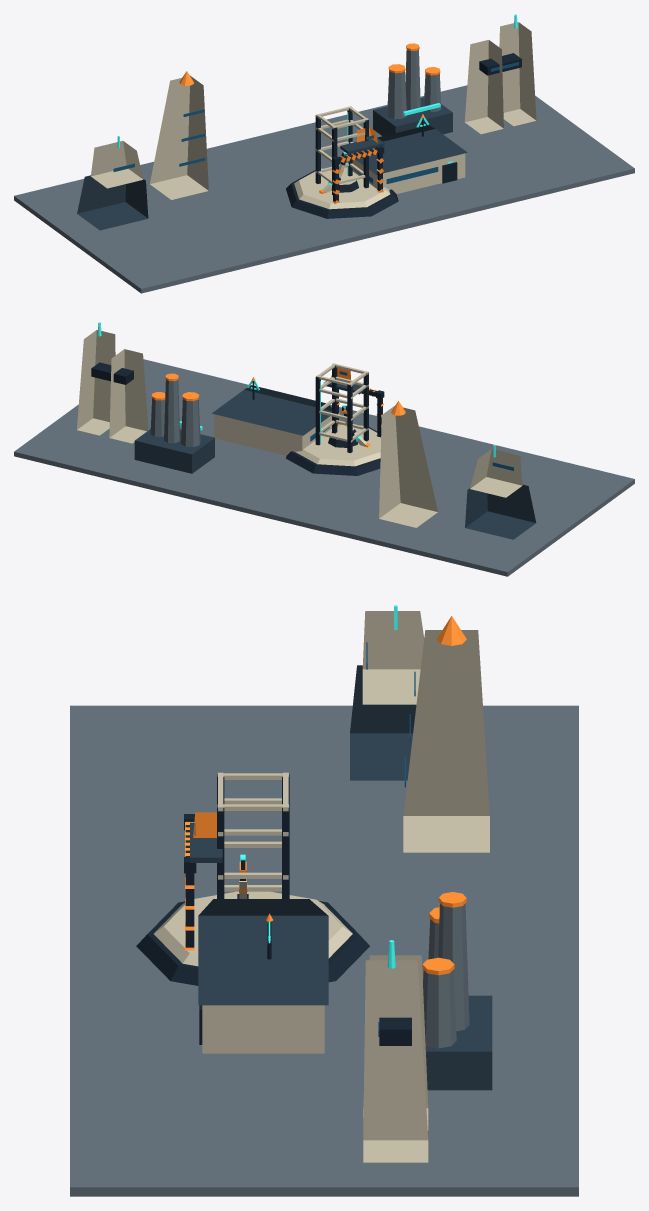
The model's file is earth-vertical-slice-v1-14IxkilN.glb.
The picture shows the model from 3 angles, top to bottom: view 1: azimuth 30°, elevation 25°; view 2: azimuth 150°, elevation 25°; view 3: azimuth 270°, elevation 25°; orthographic projection. The views are drawn at different scales.
Visible parts, largest first — view 1: EVS1_GroundDeck, EVS1_City04_Towers, EVS1_City02_Tower, EVS1_City01_Base, EVS1_ResearchBlock_Roof, EVS1_City03_Stacks, EVS1_LaunchPad_Upper, EVS1_City01_Upper, EVS1_ResearchBlock_Base, EVS1_City03_Base, EVS1_LaunchPad_Lower, EVS1_Shaft_RingBeams (+3 smaller); view 2: EVS1_GroundDeck, EVS1_City04_Towers, EVS1_City02_Tower, EVS1_ResearchBlock_Roof, EVS1_City01_Base, EVS1_ResearchBlock_Base, EVS1_City03_Stacks, EVS1_City03_Base, EVS1_LaunchPad_Upper, EVS1_City01_Upper, EVS1_Shaft_RingBeams, EVS1_Shaft_Pillars (+2 smaller); view 3: EVS1_GroundDeck, EVS1_City02_Tower, EVS1_ResearchBlock_Roof, EVS1_City04_Towers, EVS1_ResearchBlock_Base, EVS1_City01_Upper, EVS1_City03_Stacks, EVS1_City01_Base, EVS1_City03_Base, EVS1_Shaft_RingBeams, EVS1_LaunchPad_Lower, EVS1_LaunchPad_Upper (+5 smaller).
Boxes of the visible parts, left/top/right/bottom form: EVS1_GroundDeck: left=14, top=85, right=634, bottom=293; EVS1_City04_Towers: left=464, top=22, right=536, bottom=134; EVS1_City02_Tower: left=150, top=75, right=208, bottom=199; EVS1_City01_Base: left=77, top=175, right=148, bottom=230; EVS1_ResearchBlock_Roof: left=344, top=125, right=467, bottom=174; EVS1_City03_Stacks: left=387, top=49, right=441, bottom=119; EVS1_LaunchPad_Upper: left=294, top=167, right=390, bottom=209; EVS1_City01_Upper: left=90, top=141, right=143, bottom=188; EVS1_ResearchBlock_Base: left=346, top=153, right=465, bottom=193; EVS1_City03_Base: left=373, top=97, right=452, bottom=136; EVS1_LaunchPad_Lower: left=286, top=170, right=398, bottom=218; EVS1_Shaft_RingBeams: left=316, top=106, right=368, bottom=184; EVS1_GroundDeck: left=14, top=359, right=634, bottom=576; EVS1_City04_Towers: left=77, top=330, right=148, bottom=443; EVS1_City02_Tower: left=379, top=406, right=437, bottom=527; EVS1_ResearchBlock_Roof: left=212, top=385, right=331, bottom=435; EVS1_City01_Base: left=465, top=484, right=536, bottom=539; EVS1_ResearchBlock_Base: left=214, top=414, right=331, bottom=455; EVS1_City03_Stacks: left=150, top=380, right=200, bottom=446; EVS1_City03_Base: left=134, top=429, right=214, bottom=473; EVS1_LaunchPad_Upper: left=295, top=424, right=380, bottom=466; EVS1_City01_Upper: left=470, top=449, right=522, bottom=497; EVS1_Shaft_RingBeams: left=316, top=363, right=368, bottom=442; EVS1_Shaft_Pillars: left=315, top=365, right=368, bottom=453; EVS1_GroundDeck: left=70, top=705, right=578, bottom=1196; EVS1_City02_Tower: left=403, top=630, right=489, bottom=852; EVS1_ResearchBlock_Roof: left=198, top=899, right=328, bottom=1005; EVS1_City04_Towers: left=363, top=955, right=428, bottom=1162; EVS1_ResearchBlock_Base: left=202, top=1005, right=324, bottom=1053; EVS1_City01_Upper: left=362, top=611, right=424, bottom=704; EVS1_City03_Stacks: left=423, top=903, right=469, bottom=1048; EVS1_City01_Base: left=350, top=665, right=416, bottom=780; EVS1_City03_Base: left=425, top=995, right=492, bottom=1090; EVS1_Shaft_RingBeams: left=217, top=772, right=288, bottom=891; EVS1_LaunchPad_Lower: left=136, top=901, right=369, bottom=985; EVS1_LaunchPad_Upper: left=154, top=891, right=352, bottom=966.
Bounding box in the file's own units: 112 × 25.68 × 50.
